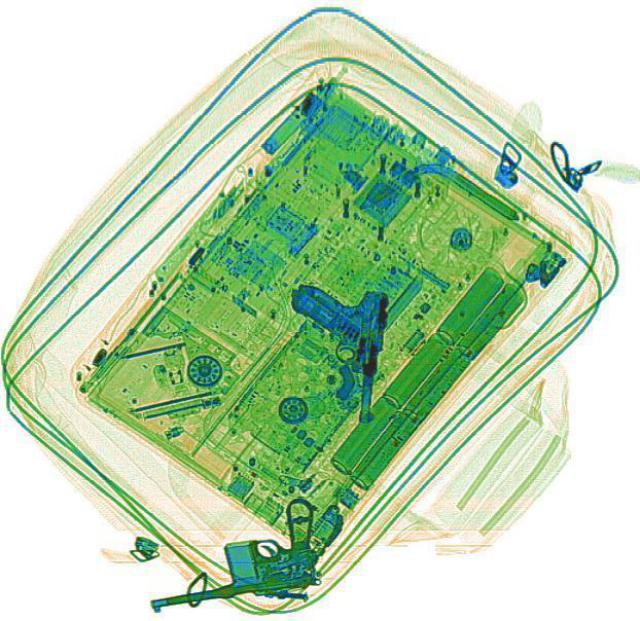Gun: (132, 495, 326, 610), (276, 280, 386, 421)
